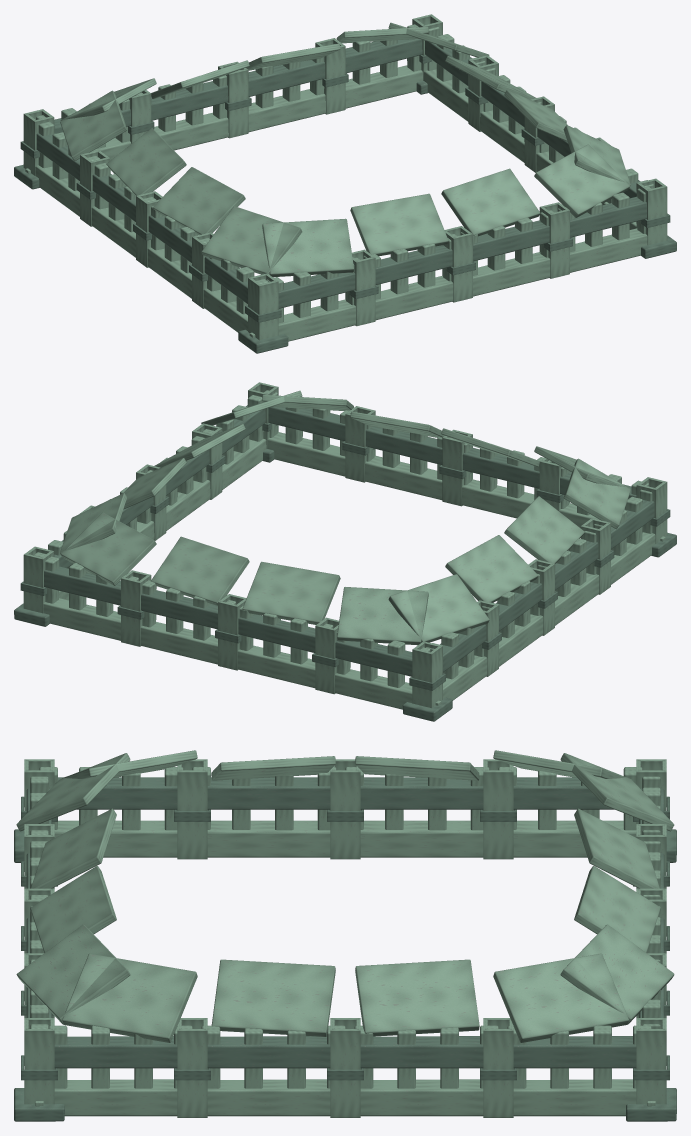
The picture shows the model from 3 angles, top to bottom: view 1: azimuth 30°, elevation 25°; view 2: azimuth 150°, elevation 25°; view 3: azimuth 270°, elevation 25°; orthographic projection. The views are drawn at different scales.
Parts seen in each view (by area): view 1: Crown alloy petal 0-1, Crown alloy petal 0-0, Crown alloy petal 0-2, Crown alloy petal 3-3, Crown alloy petal 3-2, Crown alloy petal 0-3, Crown alloy petal 3-1, Crown alloy petal 3-0, Tier 0 bay 0-0-1 shield lower edge, Tier 0 bay 0-0-2 shield lower edge, Tier 0 bay 2-0-1 shield lower edge, Tier 0 bay 0-0-3 shield lower edge (+45 smaller); view 2: Crown alloy petal 2-2, Crown alloy petal 2-3, Crown alloy petal 2-1, Crown alloy petal 3-0, Crown alloy petal 3-1, Crown alloy petal 2-0, Crown alloy petal 3-2, Crown alloy petal 3-3, Tier 0 bay 2-0-2 shield lower edge, Tier 0 bay 0-0-2 shield lower edge, Tier 0 bay 2-0-1 shield lower edge, Tier 0 bay 0-0-3 shield lower edge (+45 smaller); view 3: Crown alloy petal 1-2, Crown alloy petal 1-1, Crown alloy petal 1-3, Crown alloy petal 1-0, Crown alloy petal 0-3, Crown alloy petal 2-0, Tier 0 bay 1-0-1 shield lower edge, Tier 0 bay 1-0-2 shield lower edge, Tier 0 bay 3-0-1 shield lower edge, Tier 0 bay 3-0-2 shield lower edge, Crown alloy petal 2-1, Crown alloy petal 0-2 (+46 smaller).
Boxes of the visible parts, x1=… form: Crown alloy petal 0-1: x1=350, y1=193, x2=448, y2=256; Crown alloy petal 0-0: x1=262, y1=218, x2=353, y2=277; Crown alloy petal 0-2: x1=441, y1=168, x2=540, y2=236; Crown alloy petal 3-3: x1=201, y1=206, x2=302, y2=274; Crown alloy petal 3-2: x1=152, y1=167, x2=245, y2=235; Crown alloy petal 0-3: x1=534, y1=144, x2=630, y2=217; Crown alloy petal 3-1: x1=106, y1=128, x2=186, y2=195; Crown alloy petal 3-0: x1=60, y1=90, x2=127, y2=161; Tier 0 bay 0-0-1 shield lower edge: x1=375, y1=275, x2=453, y2=320; Tier 0 bay 0-0-2 shield lower edge: x1=473, y1=252, x2=550, y2=296; Tier 0 bay 2-0-1 shield lower edge: x1=248, y1=89, x2=325, y2=132; Tier 0 bay 0-0-3 shield lower edge: x1=570, y1=228, x2=647, y2=272; Crown alloy petal 2-2: x1=242, y1=561, x2=340, y2=624; Crown alloy petal 2-3: x1=337, y1=587, x2=428, y2=645; Crown alloy petal 2-1: x1=151, y1=536, x2=249, y2=605; Crown alloy petal 3-0: x1=388, y1=574, x2=489, y2=642; Crown alloy petal 3-1: x1=445, y1=535, x2=538, y2=602; Crown alloy petal 2-0: x1=61, y1=512, x2=156, y2=585; Crown alloy petal 3-2: x1=504, y1=496, x2=584, y2=563; Crown alloy petal 3-3: x1=563, y1=458, x2=630, y2=529; Tier 0 bay 2-0-2 shield lower edge: x1=237, y1=645, x2=315, y2=688; Tier 0 bay 0-0-2 shield lower edge: x1=365, y1=455, x2=442, y2=500; Tier 0 bay 2-0-1 shield lower edge: x1=140, y1=622, x2=217, y2=664; Tier 0 bay 0-0-3 shield lower edge: x1=267, y1=432, x2=345, y2=476; Crown alloy petal 1-2: x1=355, y1=959, x2=479, y2=1036; Crown alloy petal 1-1: x1=211, y1=959, x2=335, y2=1036; Crown alloy petal 1-3: x1=493, y1=953, x2=628, y2=1042; Crown alloy petal 1-0: x1=62, y1=953, x2=197, y2=1042; Crown alloy petal 0-3: x1=16, y1=924, x2=130, y2=1024; Crown alloy petal 2-0: x1=560, y1=924, x2=674, y2=1024; Tier 0 bay 1-0-1 shield lower edge: x1=207, y1=1079, x2=330, y2=1116; Tier 0 bay 1-0-2 shield lower edge: x1=360, y1=1079, x2=483, y2=1116; Tier 0 bay 3-0-1 shield lower edge: x1=360, y1=820, x2=483, y2=857; Tier 0 bay 3-0-2 shield lower edge: x1=207, y1=820, x2=330, y2=857; Crown alloy petal 2-1: x1=574, y1=866, x2=660, y2=952; Crown alloy petal 0-2: x1=30, y1=866, x2=116, y2=952.
Size of the model in its own units: 1.95 by 0.3932 by 1.95.
2 materials, 2 textured.
